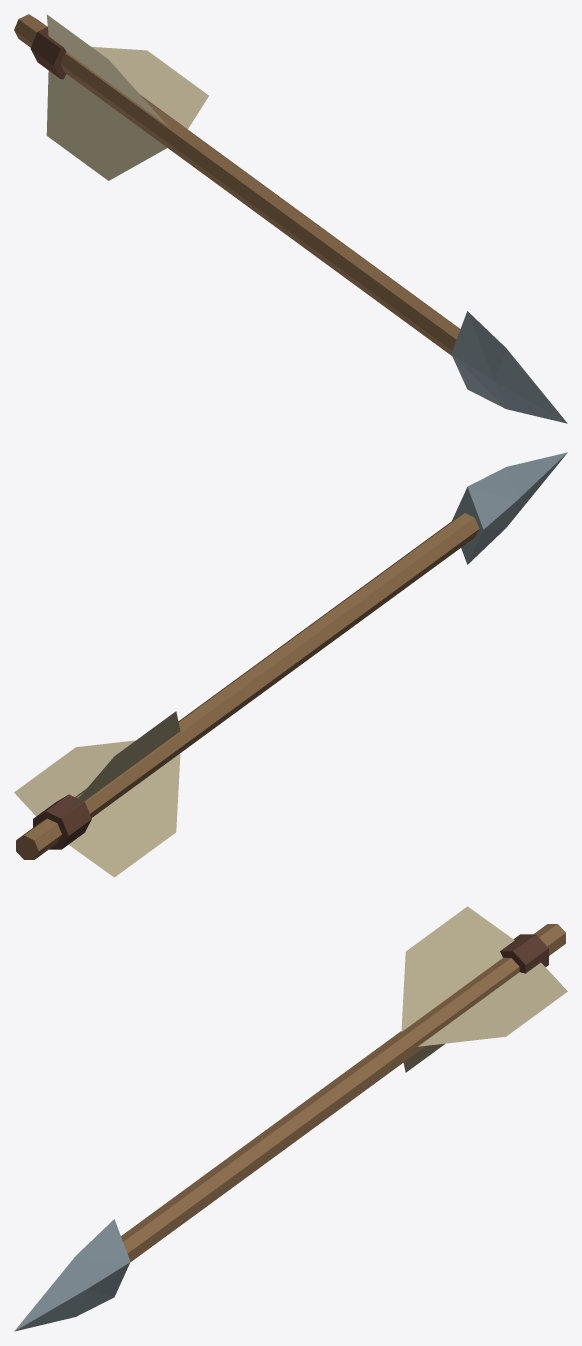
Rendered from arrow_practice.glb.
3 renders of one model, top to bottom at view 1: azimuth 30°, elevation 25°; view 2: azimuth 150°, elevation 25°; view 3: azimuth 330°, elevation 25°, orthographic.
Parts seen in each view (by area): view 1: geometry; view 2: geometry; view 3: geometry.
Part boxes in pixels (<box>): geometry: <box>14,14,567,423</box>; geometry: <box>14,452,567,877</box>; geometry: <box>14,906,567,1331</box>.
Size of the model in its own units: 0.075 by 0.0866 by 0.7.
